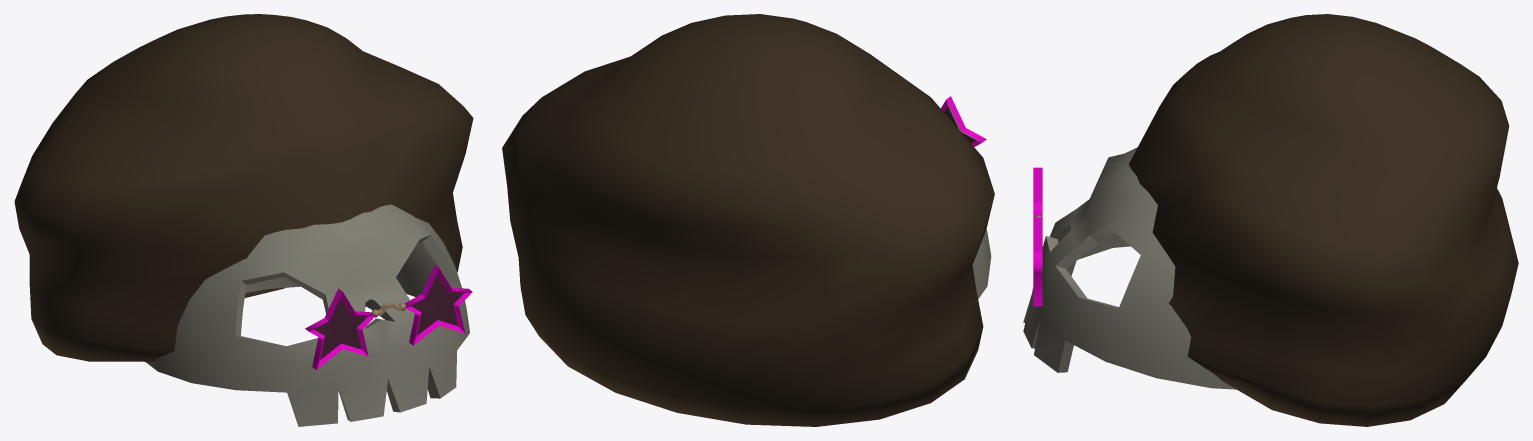
The model's file is Skulltry3.fbx.
3 renders of one model, left to right at view 1: azimuth 30°, elevation 25°; view 2: azimuth 150°, elevation 25°; view 3: azimuth 270°, elevation 25°, orthographic. The views are drawn at different scales.
Visible parts, largest first — view 1: pSphere5; view 2: pSphere5; view 3: pSphere5.
Boxes of the visible parts, bbox=[...] form: pSphere5: bbox=[14, 14, 473, 426]; pSphere5: bbox=[502, 14, 994, 426]; pSphere5: bbox=[1023, 14, 1518, 426].
Bounding box in the file's own units: 2.46 × 1.66 × 2.35.
